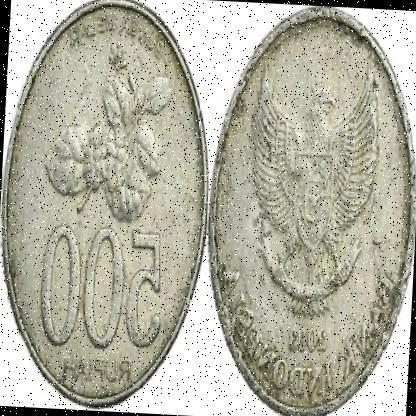coin_500_e2003: (205, 1, 416, 416), (0, 0, 207, 416)
